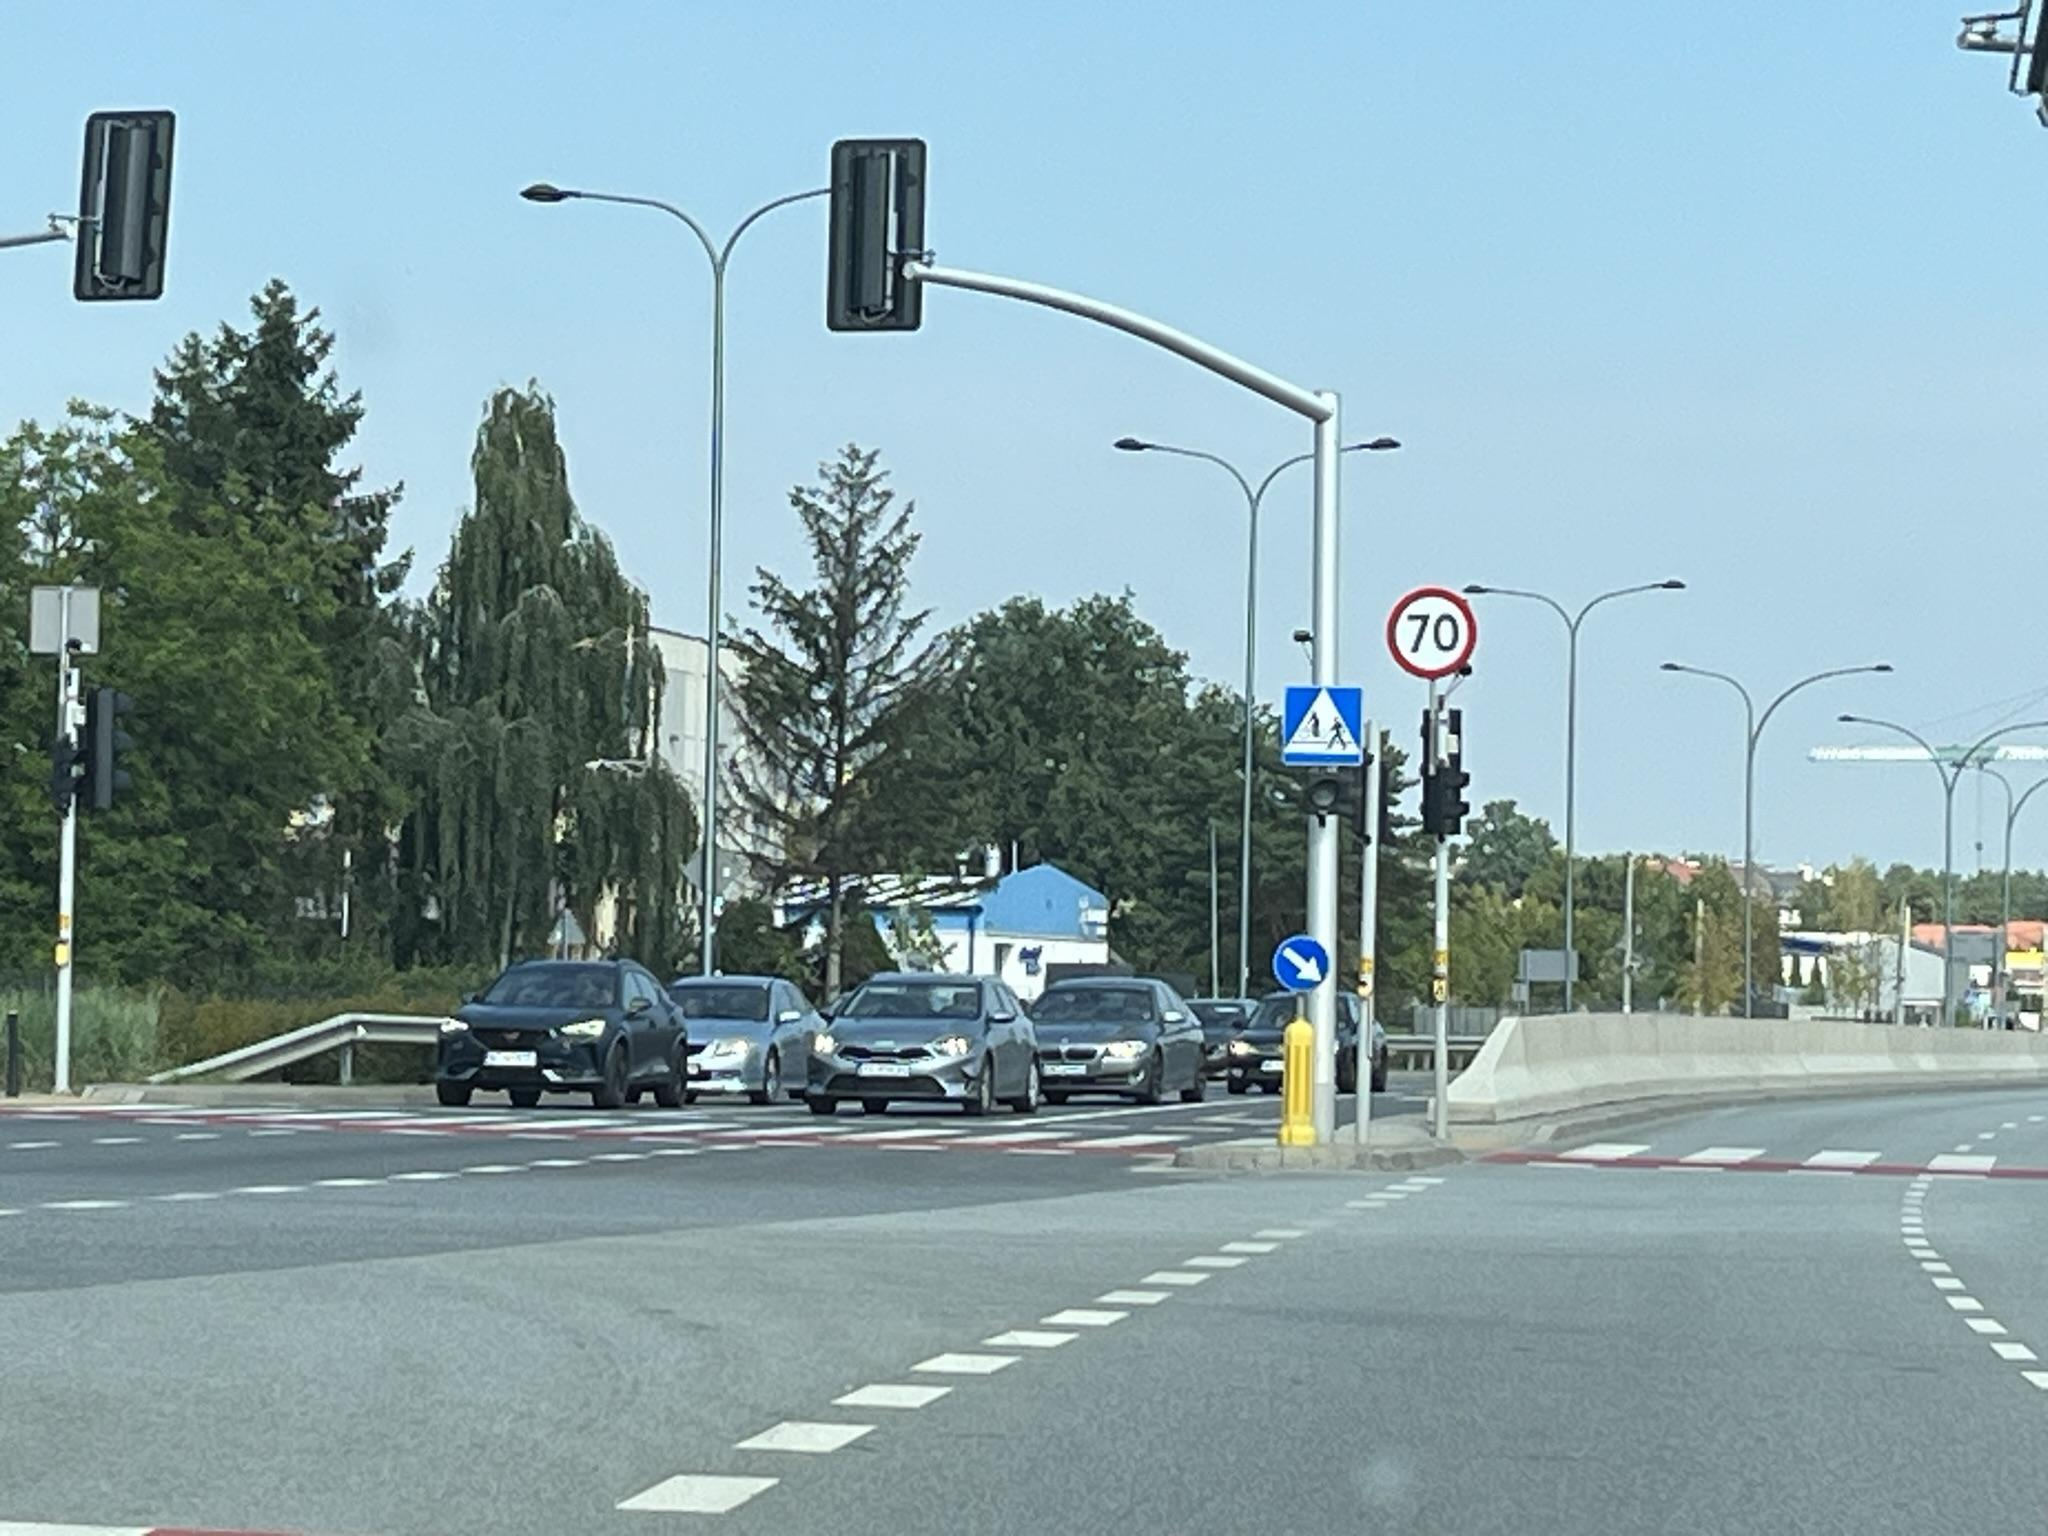information: (1282, 684, 1363, 766)
mandatory: (1272, 933, 1330, 994)
prohibitory: (1385, 584, 1479, 679)
